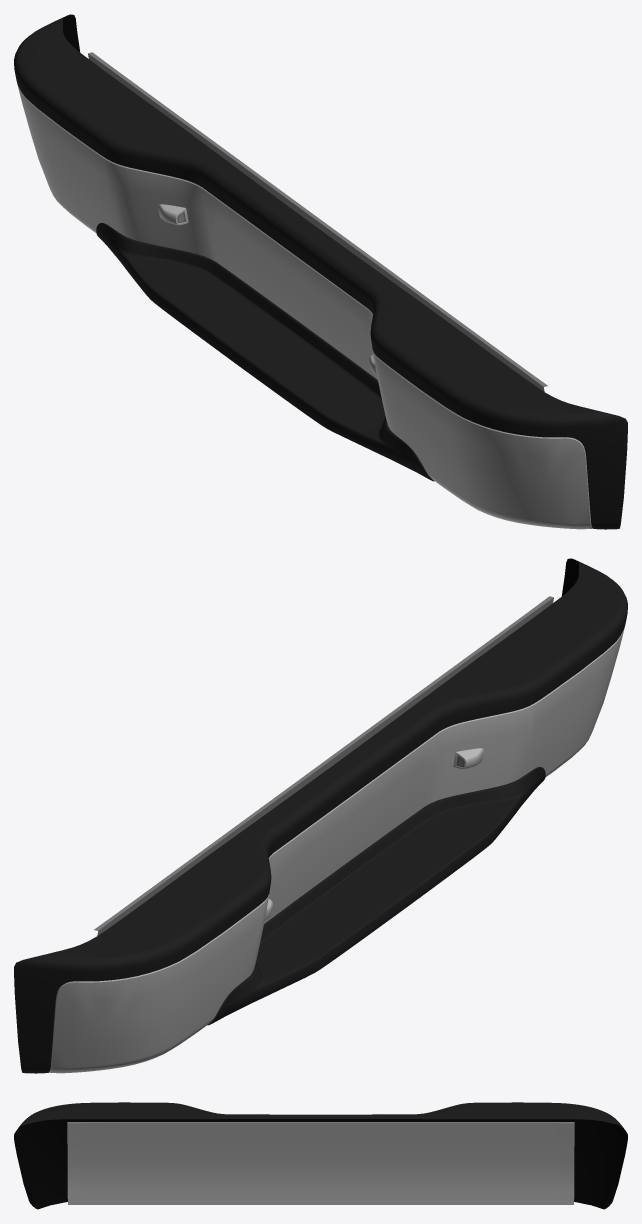
The picture shows the model from 3 angles, top to bottom: view 1: azimuth 30°, elevation 25°; view 2: azimuth 150°, elevation 25°; view 3: azimuth 270°, elevation 25°; orthographic projection. The views are drawn at different scales.
Visible parts, largest first — view 1: U803_1A_561G_C_U803_1A_561G_C_2_D, U803_1A_561G_C_3_DaS_U803_1A_561G_C, U803_1A_561G_C_U803_1A_561G_C_1_DaS, U803_1A_561G_C_U803_1A_561G_C_1_DaS_E, U803_1A_561G_C_3_DaS_U803_1A_561G_C_E; view 2: U803_1A_561G_C_U803_1A_561G_C_2_D, U803_1A_561G_C_3_DaS_U803_1A_561G_C, U803_1A_561G_C_U803_1A_561G_C_1_DaS, U803_1A_561G_C_U803_1A_561G_C_1_DaS_E, U803_1A_561G_C_3_DaS_U803_1A_561G_C_E; view 3: U803_1A_561G_C_U803_1A_561G_C_1_DaS, U803_1A_561G_C_U803_1A_561G_C_5_D, U803_1A_561G_C_U803_1A_561G_C_2_D, U803_1A_561G_C_U803_1A_561G_C_1_DaS_E.
Boxes of the visible parts, left/top/right/bottom form: U803_1A_561G_C_U803_1A_561G_C_2_D: left=14, top=17, right=627, bottom=529; U803_1A_561G_C_3_DaS_U803_1A_561G_C: left=17, top=85, right=591, bottom=529; U803_1A_561G_C_U803_1A_561G_C_1_DaS: left=88, top=53, right=544, bottom=391; U803_1A_561G_C_U803_1A_561G_C_1_DaS_E: left=88, top=52, right=547, bottom=386; U803_1A_561G_C_3_DaS_U803_1A_561G_C_E: left=16, top=81, right=592, bottom=528; U803_1A_561G_C_U803_1A_561G_C_2_D: left=14, top=561, right=627, bottom=1073; U803_1A_561G_C_3_DaS_U803_1A_561G_C: left=50, top=629, right=624, bottom=1073; U803_1A_561G_C_U803_1A_561G_C_1_DaS: left=97, top=597, right=553, bottom=935; U803_1A_561G_C_U803_1A_561G_C_1_DaS_E: left=94, top=596, right=553, bottom=930; U803_1A_561G_C_3_DaS_U803_1A_561G_C_E: left=49, top=625, right=625, bottom=1072; U803_1A_561G_C_U803_1A_561G_C_1_DaS: left=67, top=1123, right=574, bottom=1204; U803_1A_561G_C_U803_1A_561G_C_5_D: left=14, top=1119, right=627, bottom=1209; U803_1A_561G_C_U803_1A_561G_C_2_D: left=16, top=1102, right=625, bottom=1130; U803_1A_561G_C_U803_1A_561G_C_1_DaS_E: left=67, top=1122, right=574, bottom=1123.
Bounding box in the file's own units: 21.94 × 22.29 × 164.
